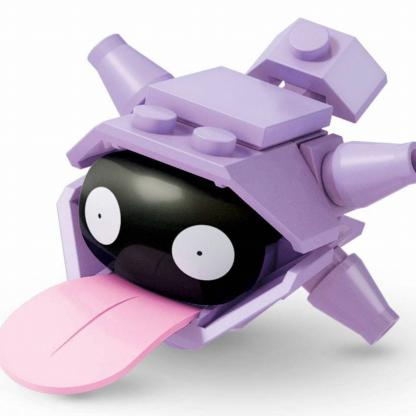Shellder: (50, 17, 416, 368)
